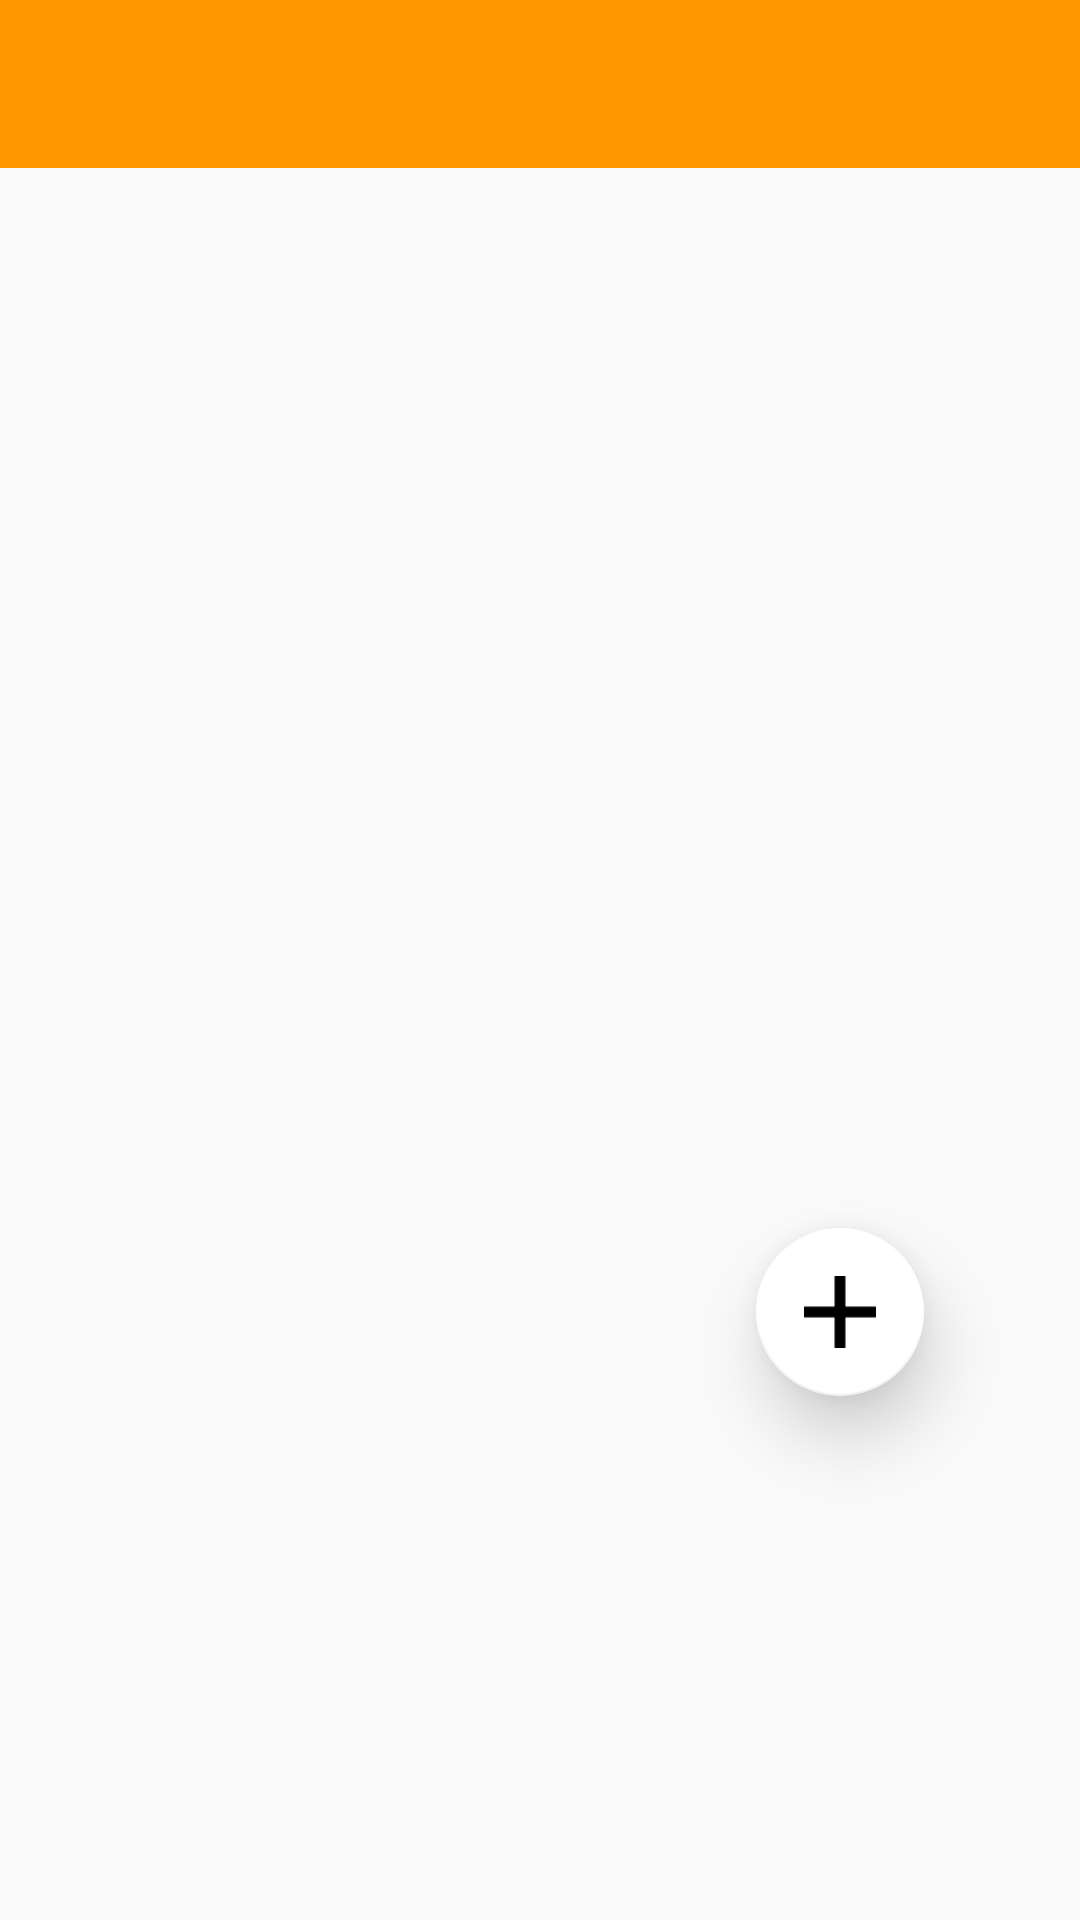

Icons on this 1080 x 1920 Android screen, each with the point to tap as point (x, y):
add: point (840, 1312)
